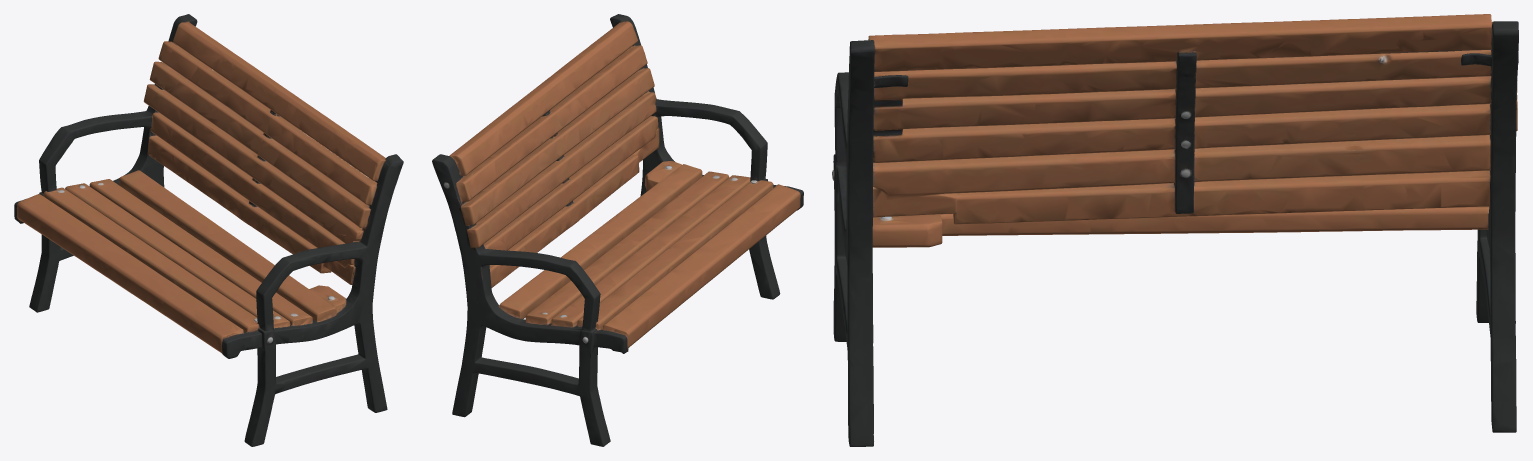
The model's file is bench.glb.
3 views of the same model, side by side, from view 1: azimuth 30°, elevation 25°; view 2: azimuth 150°, elevation 25°; view 3: azimuth 270°, elevation 25° (orthographic). The views are drawn at different scales.
Visible parts, largest first — view 1: geometry_0; view 2: geometry_0; view 3: geometry_0.
Boxes of the visible parts, box(x1,y1,x2,y2) form: geometry_0: box(14, 14, 403, 446); geometry_0: box(432, 14, 803, 446); geometry_0: box(832, 14, 1518, 446).
Bounding box in the file's own units: 1.01 × 1.22 × 1.8.
1 material, 1 textured.
